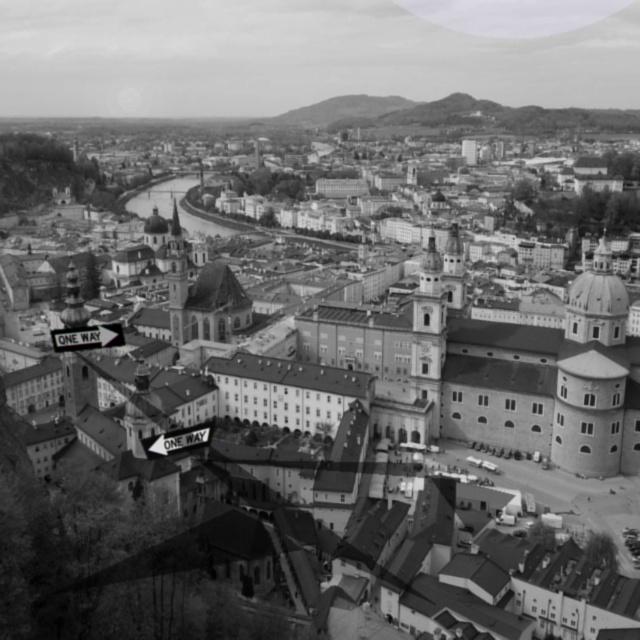ONE_WAY_ left: (139, 419, 216, 461)
ONE_WAY_ right: (49, 322, 126, 353)
